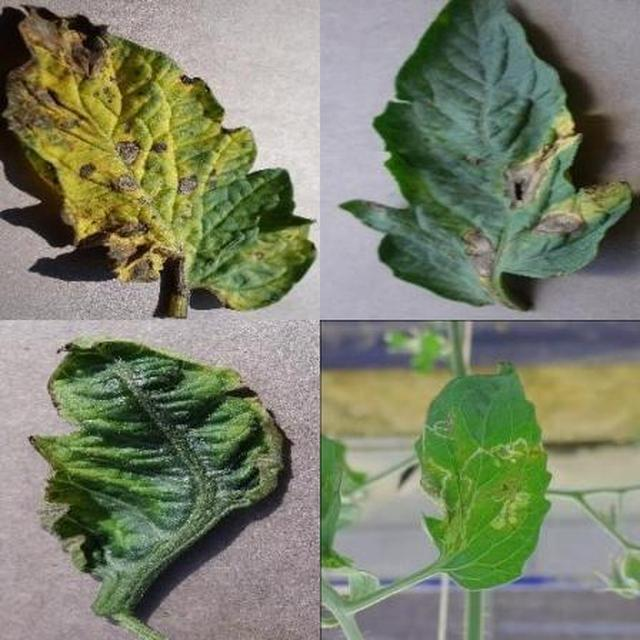Early Blight Leaf: (200, 219, 640, 640)
